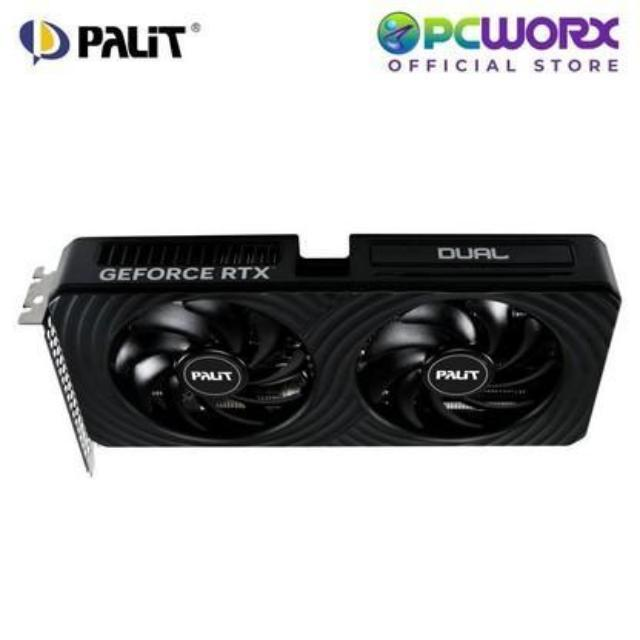GPU: (32, 218, 626, 464)
